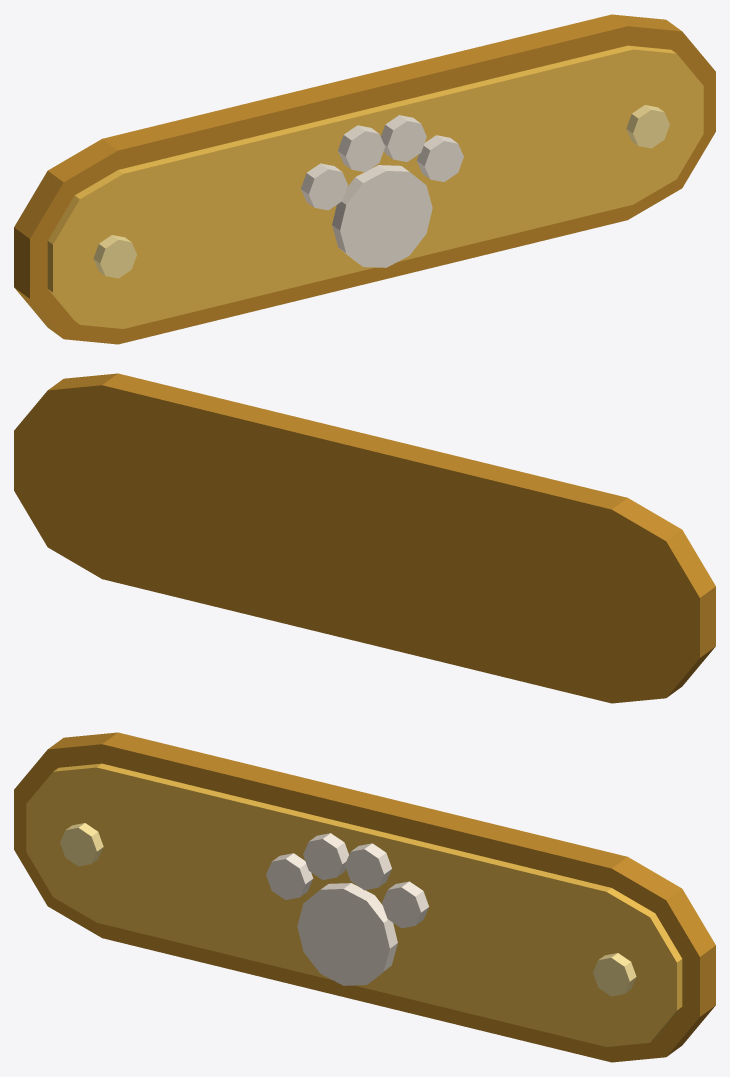
Rendered from CatCafe_Plot_SignVipPlate.glb.
3 views of the same model, one above another, from view 1: azimuth 30°, elevation 25°; view 2: azimuth 150°, elevation 25°; view 3: azimuth 330°, elevation 25° (orthographic).
Visible parts, largest first — view 1: CatCafe_Plot_SignVipPlate; view 2: CatCafe_Plot_SignVipPlate; view 3: CatCafe_Plot_SignVipPlate.
Part boxes in pixels (x1,y1,x2,y2): CatCafe_Plot_SignVipPlate: (14, 14, 715, 344); CatCafe_Plot_SignVipPlate: (14, 373, 715, 703); CatCafe_Plot_SignVipPlate: (14, 732, 715, 1062).
Size of the model in its own units: 2.96 by 0.8 by 0.22.
Materials: 1 (1 with a texture image).
